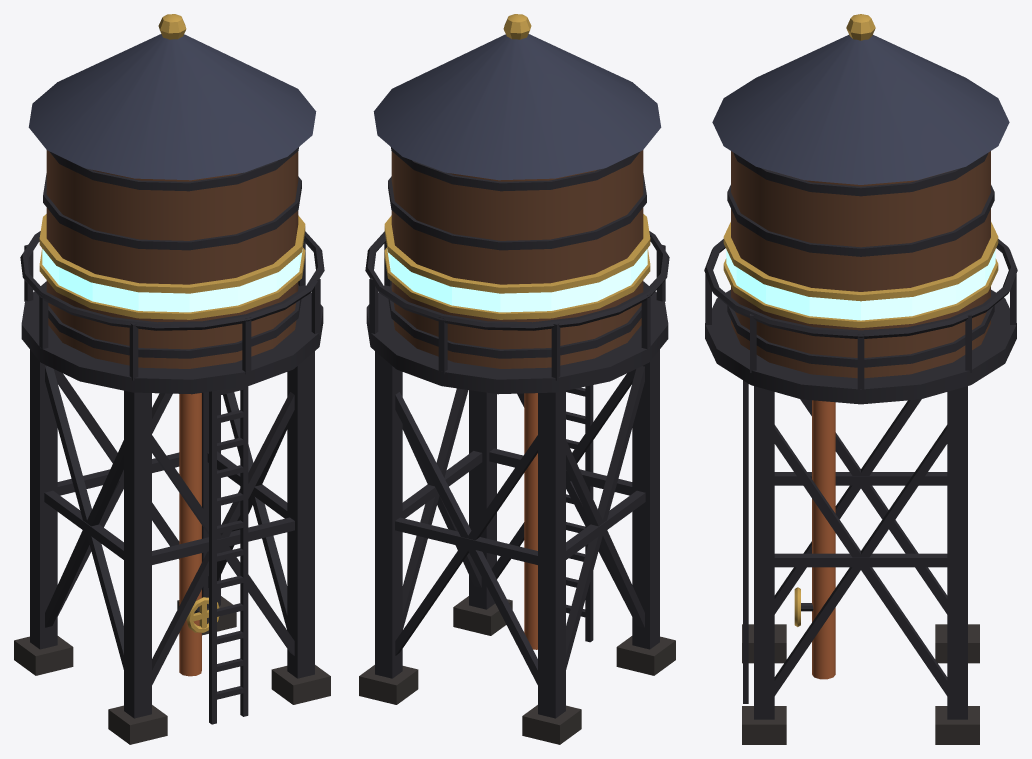
File: TanqueAgua.fbx
3 views of the same model, side by side, from view 1: azimuth 30°, elevation 25°; view 2: azimuth 150°, elevation 25°; view 3: azimuth 270°, elevation 25° (orthographic). The views are drawn at different scales.
Visible parts, largest first — view 1: Corpo, CristalPulso; view 2: Corpo, CristalPulso; view 3: Corpo, CristalPulso.
Boxes of the visible parts, left/top/right/bottom form: Corpo: left=14, top=14, right=330, bottom=744; CristalPulso: left=42, top=249, right=302, bottom=312; Corpo: left=359, top=14, right=675, bottom=744; CristalPulso: left=387, top=249, right=647, bottom=312; Corpo: left=704, top=14, right=1017, bottom=744; CristalPulso: left=726, top=249, right=995, bottom=320.
Size of the model in its own units: 4.22 by 10.1 by 4.22.
